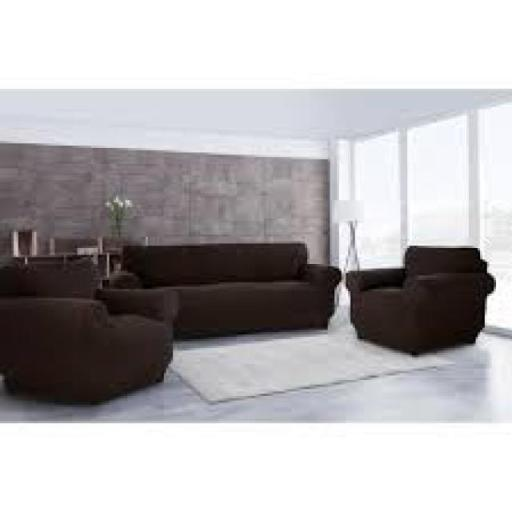sofa: (0, 232, 512, 422)
